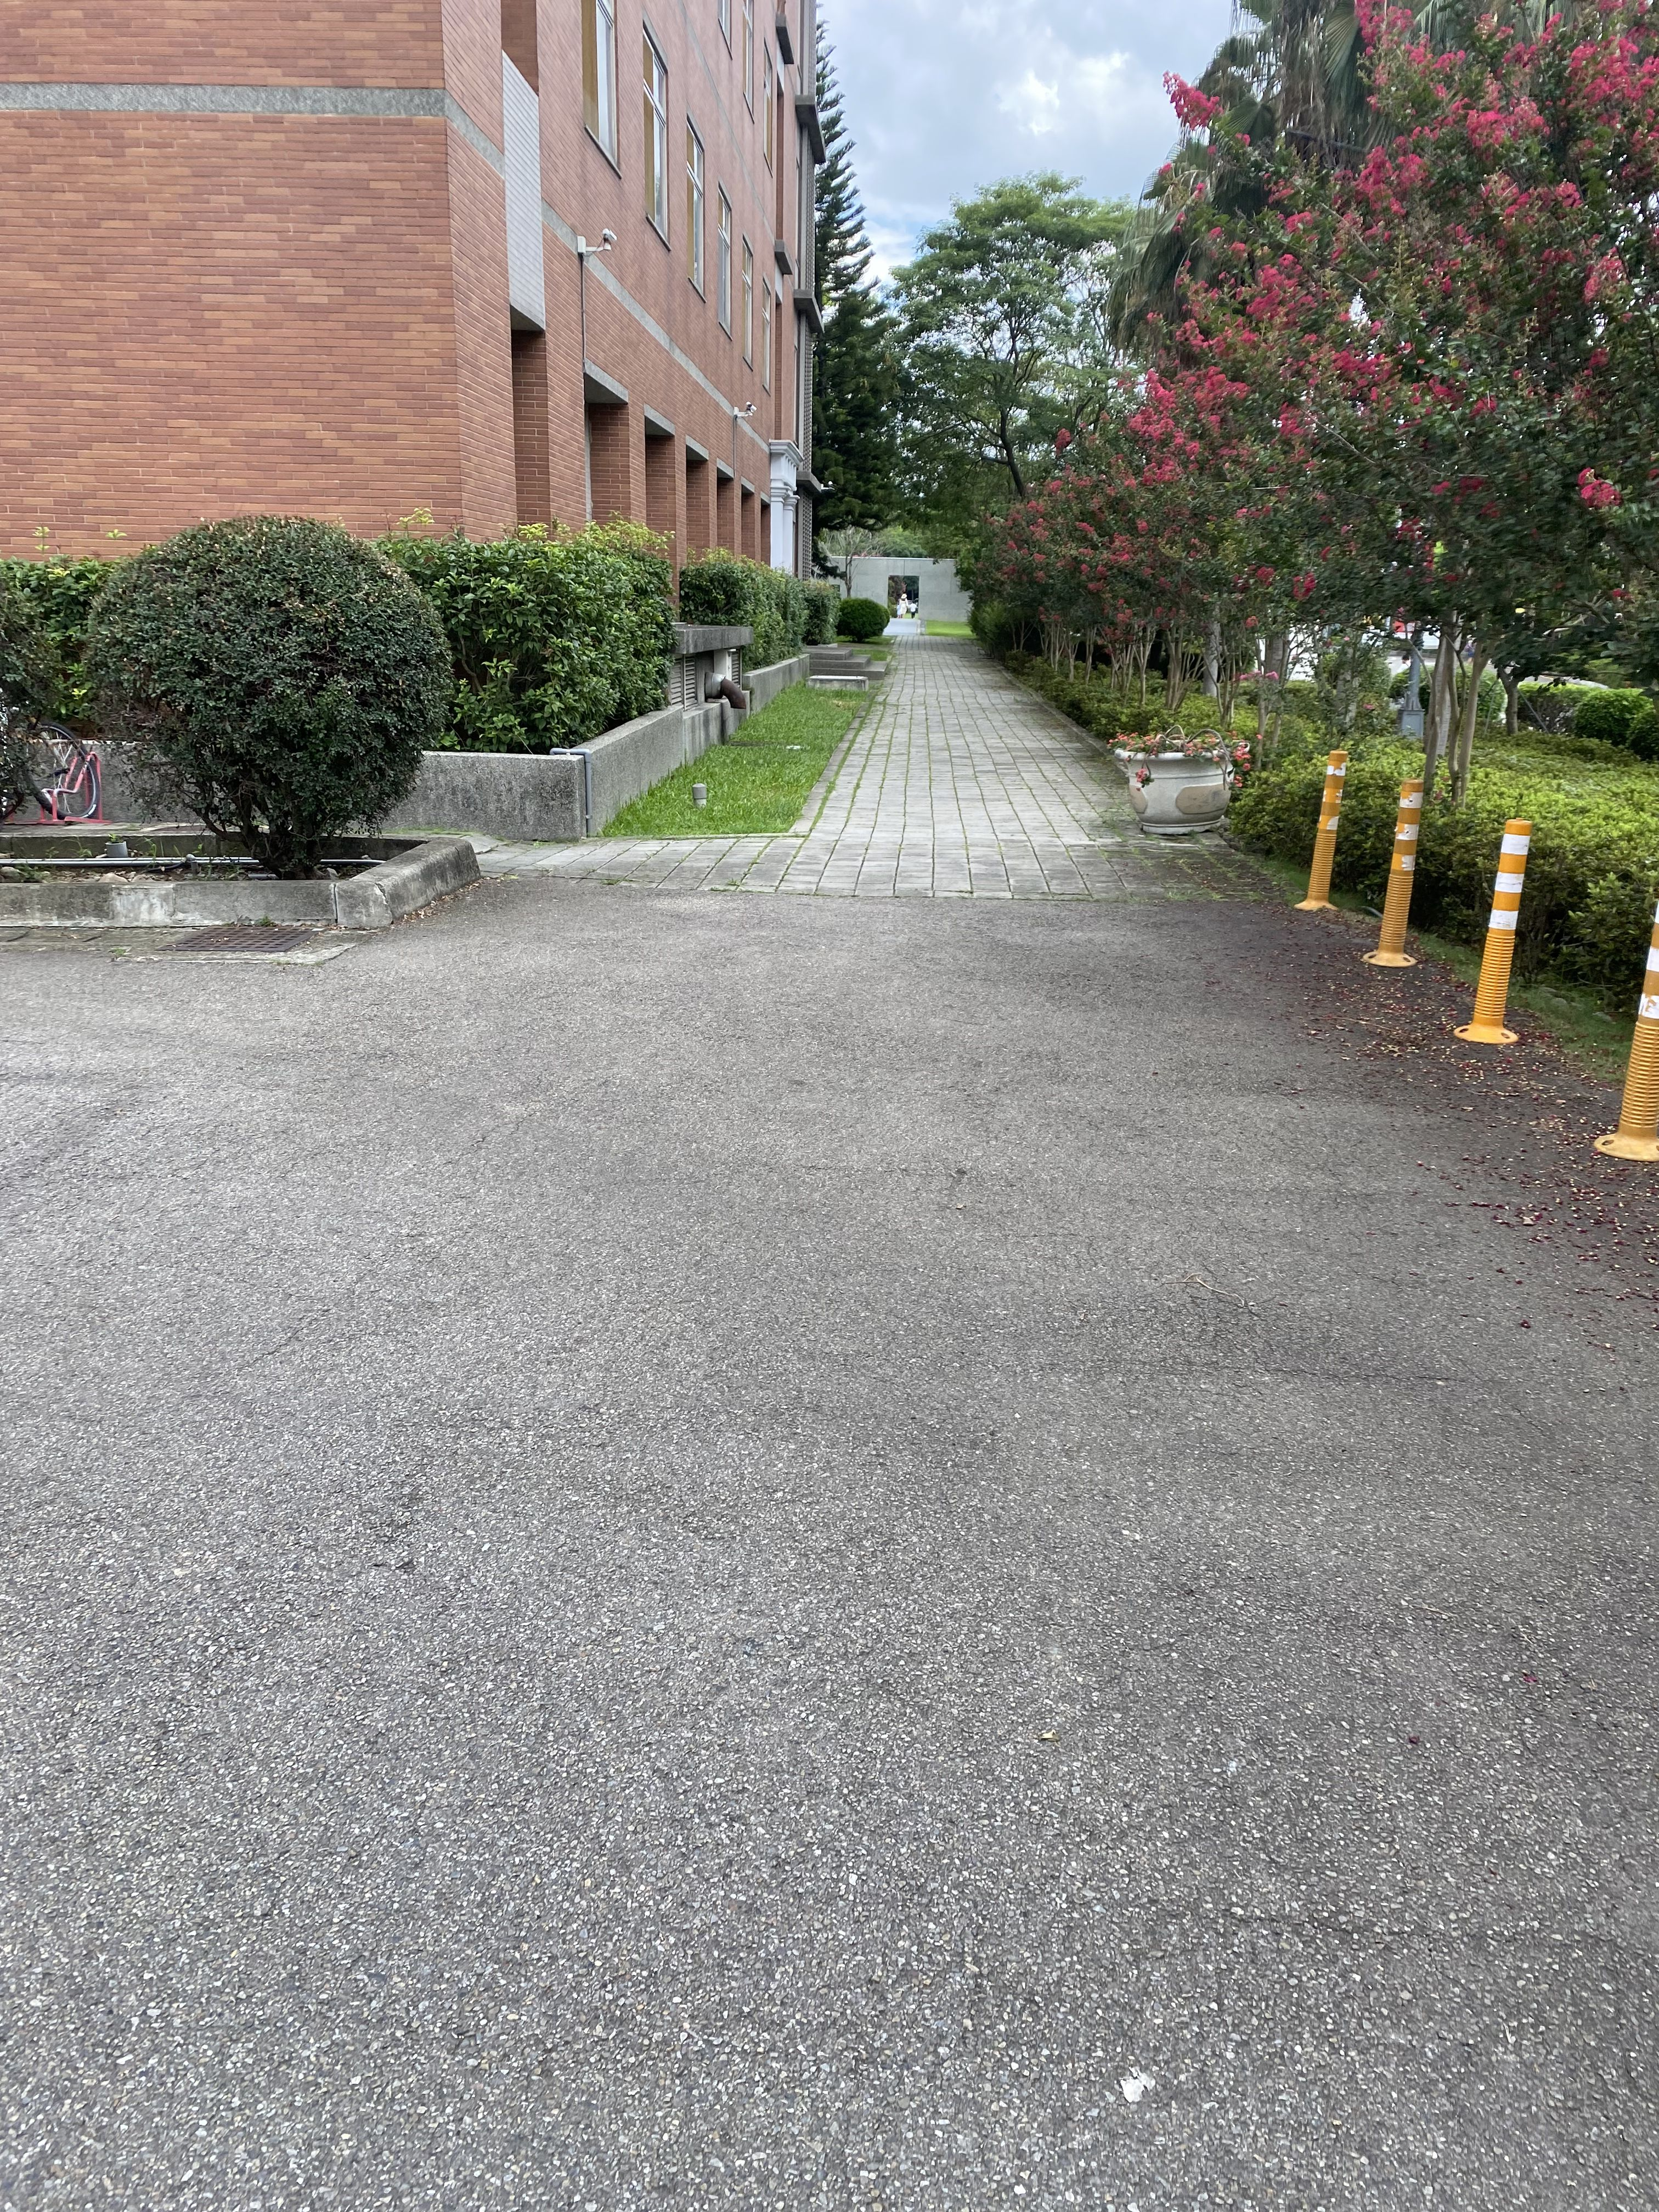0: (612, 836, 1622, 2212)
sidewalk: (793, 597, 1187, 1139)
